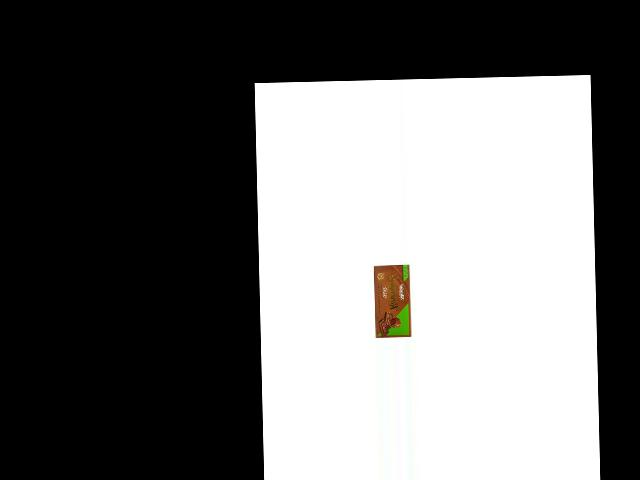chocolate: (372, 262, 414, 338)
